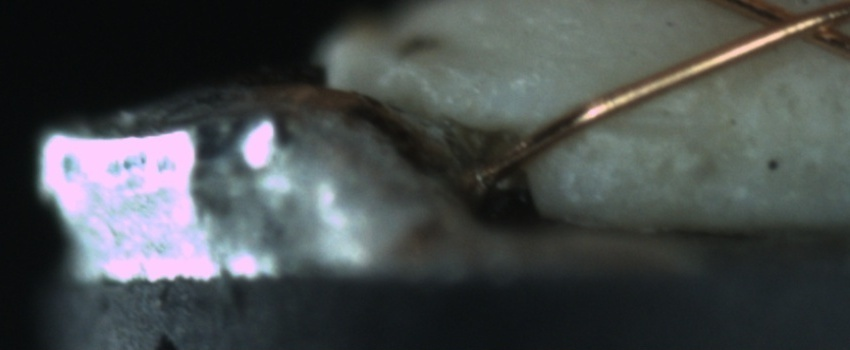CL: (730, 1, 850, 55)
DL: (594, 93, 692, 156)
